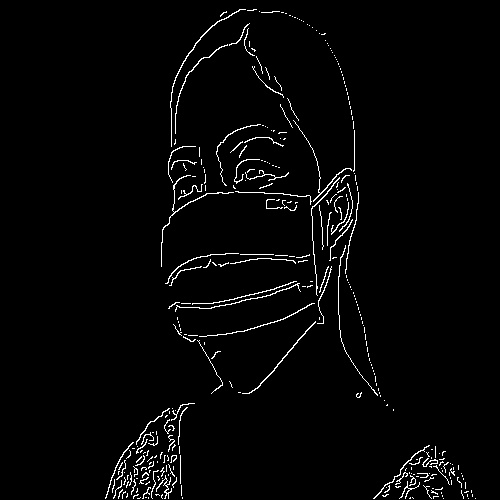mask: (156, 193, 322, 330)
